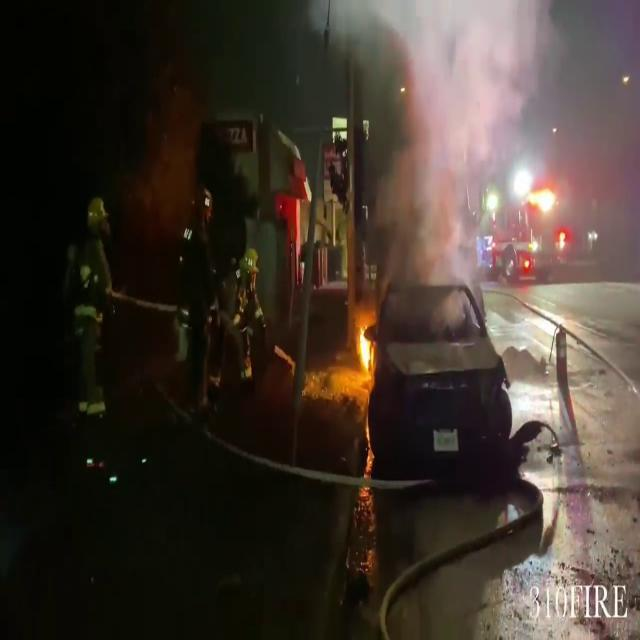Fire: (354, 313, 376, 382)
Smoke: (366, 0, 502, 296)
